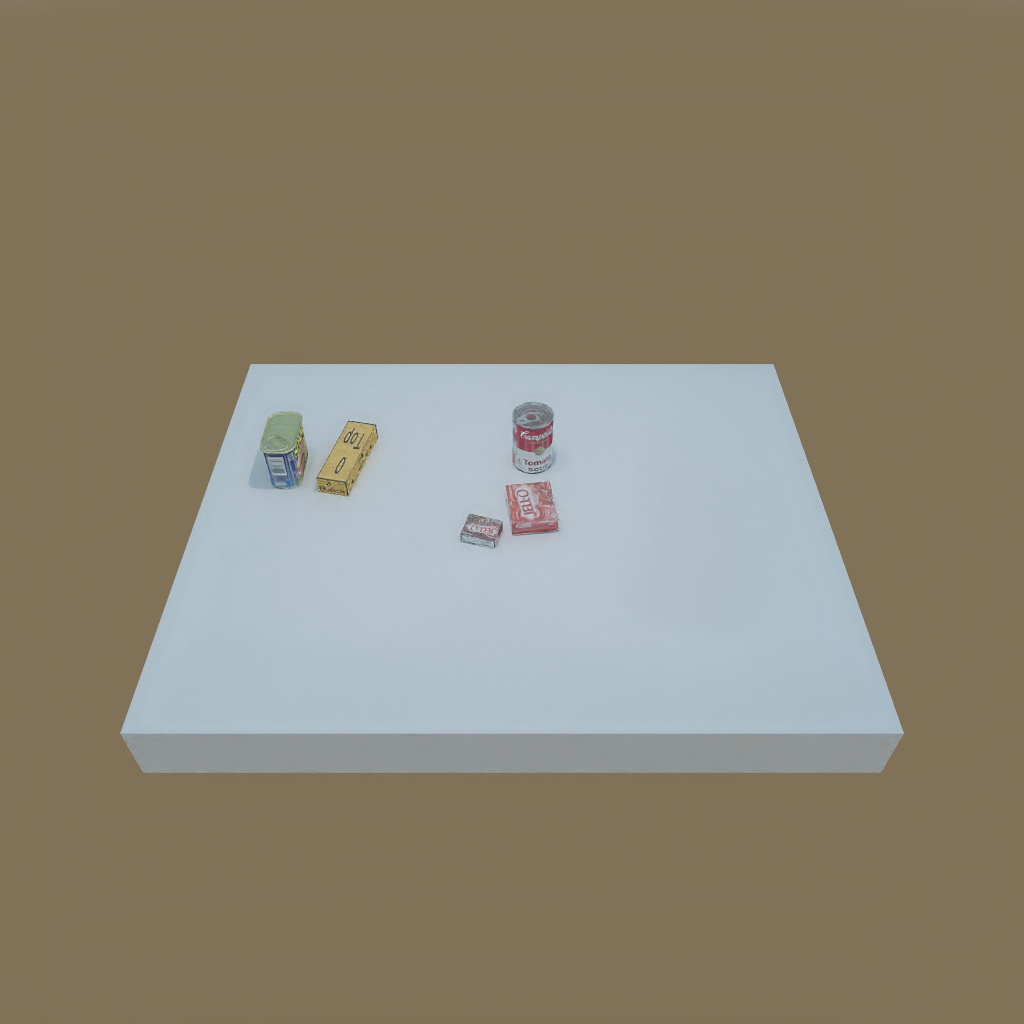gelatin_box: (501, 481, 568, 537)
jenga: (314, 417, 379, 497)
potted_meat_can: (259, 411, 308, 488)
pudding_box: (458, 509, 506, 547)
tomato_soup_can: (510, 399, 558, 475)
